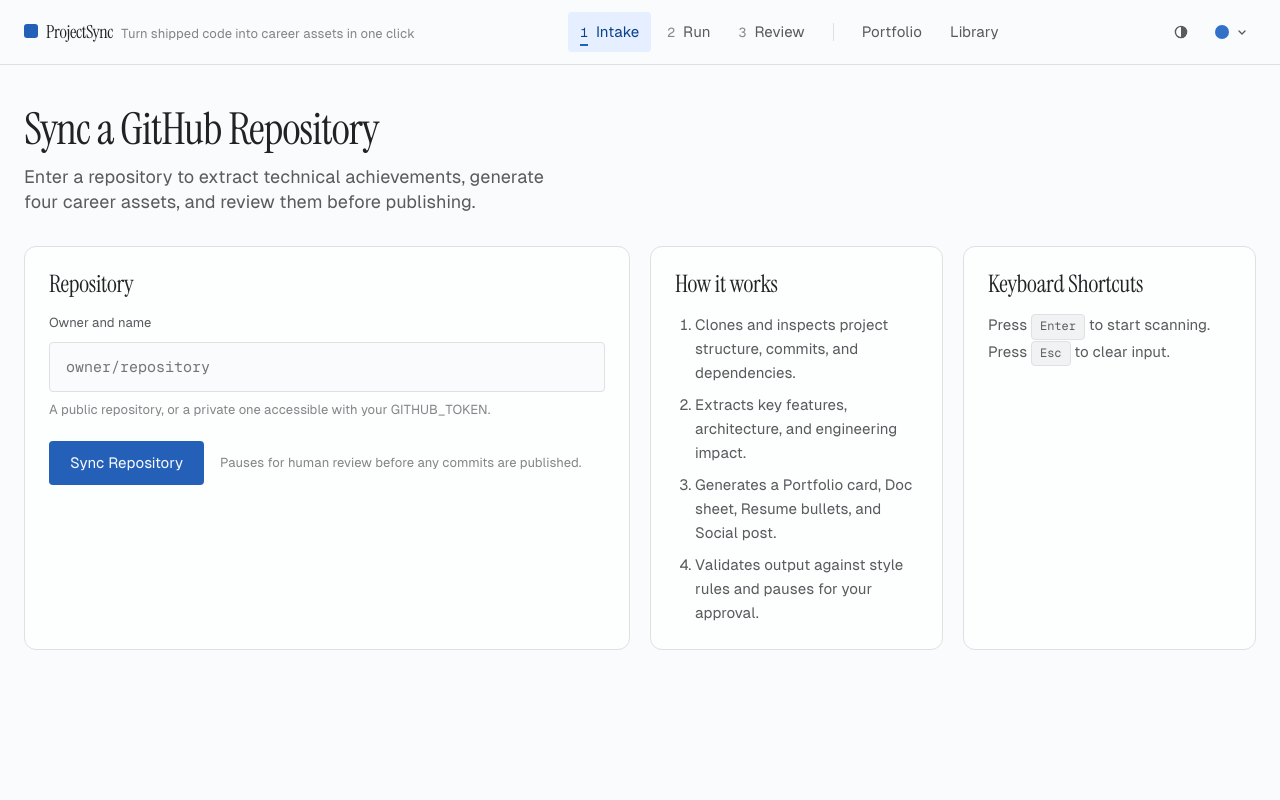
Test: shows the name of each node when Show more is on
The image size is (1280, 800).
What coordinates should you click on to do the following:
click the button "2 Run"
I would click on:
 (689, 32)
Its box is x1=655 y1=12 x2=723 y2=52.
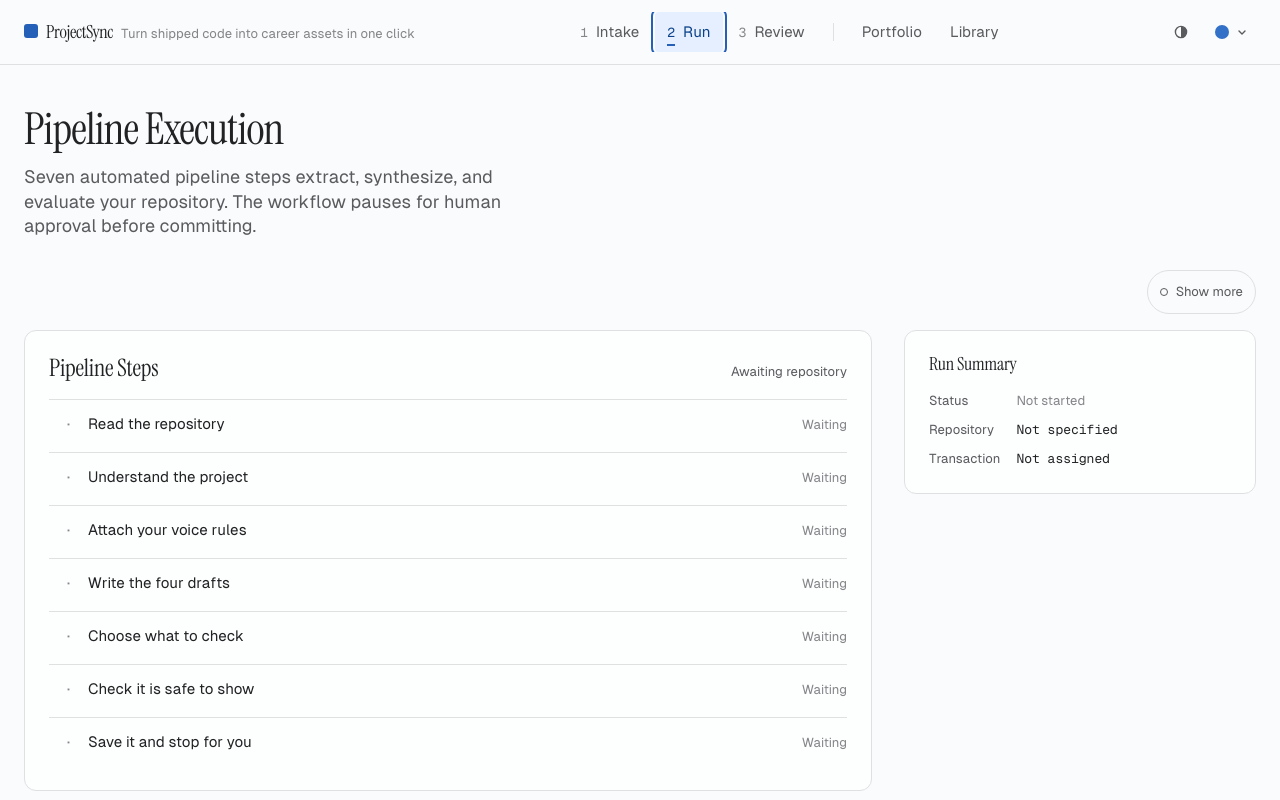
What coordinates should you click on to do the following:
click the button "Show more"
I would click on:
 (1201, 292)
Its box is x1=1147 y1=270 x2=1256 y2=314.
(page scrolled)
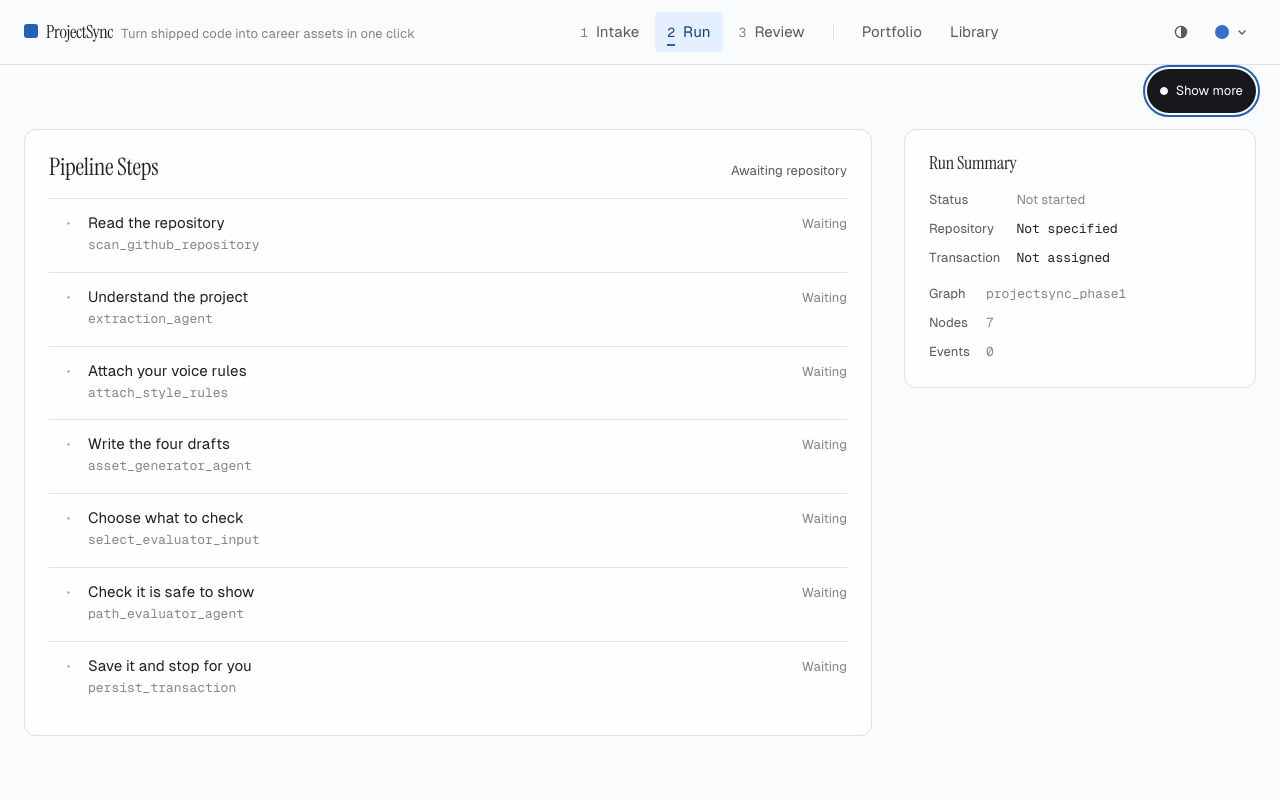
Expected: the text "persist_transaction" is shown, x1=88 y1=679 x2=236 y2=696
